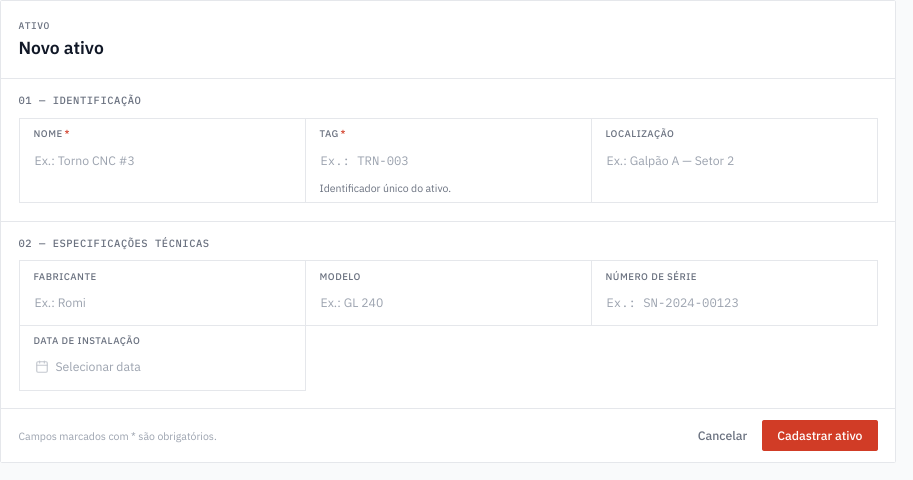
Test: AssetEditPage — modo criação › deve limpar o erro do campo ao começar a digitar
Click the button "Cadastrar ativo": [820, 436] box [762,420,878,451]
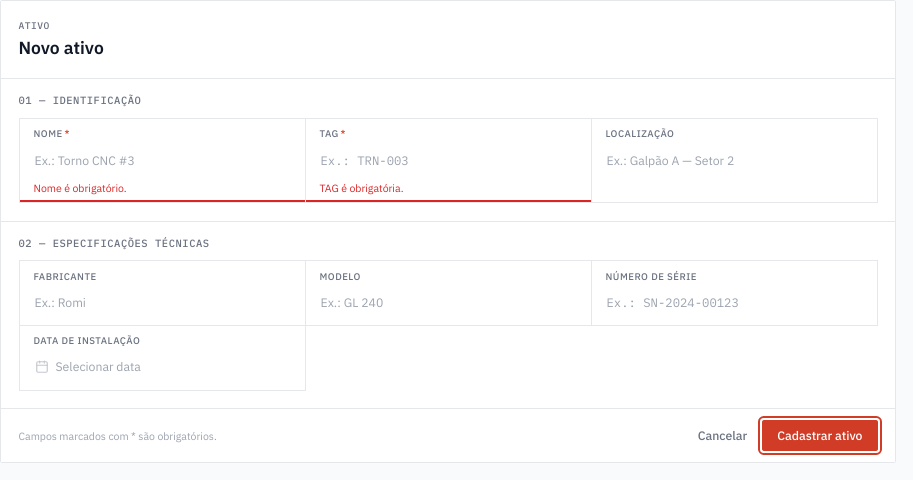
Now the text "Nome é obrigatório." is shown, box [34,181,127,195]
In the field labelled "Nome": [162, 160] box [34,144,290,176], type "Torno CNC #3"
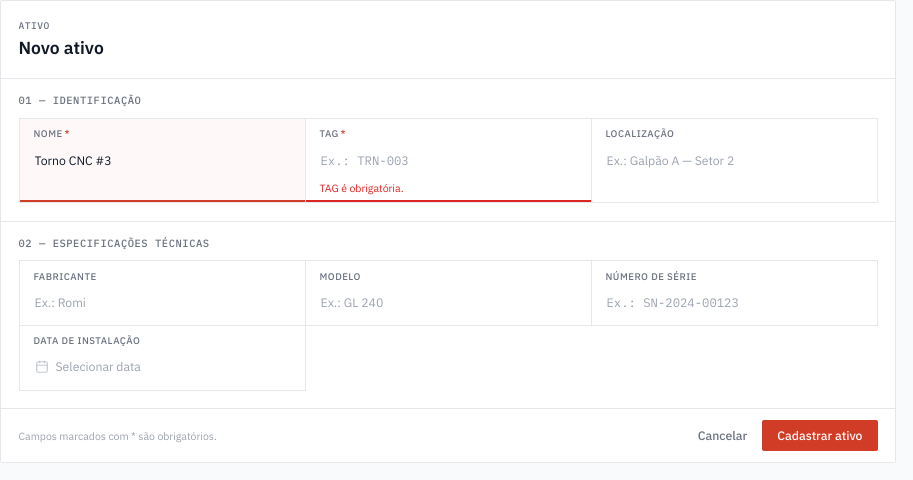
Now the text "Nome é obrigatório." is gone
